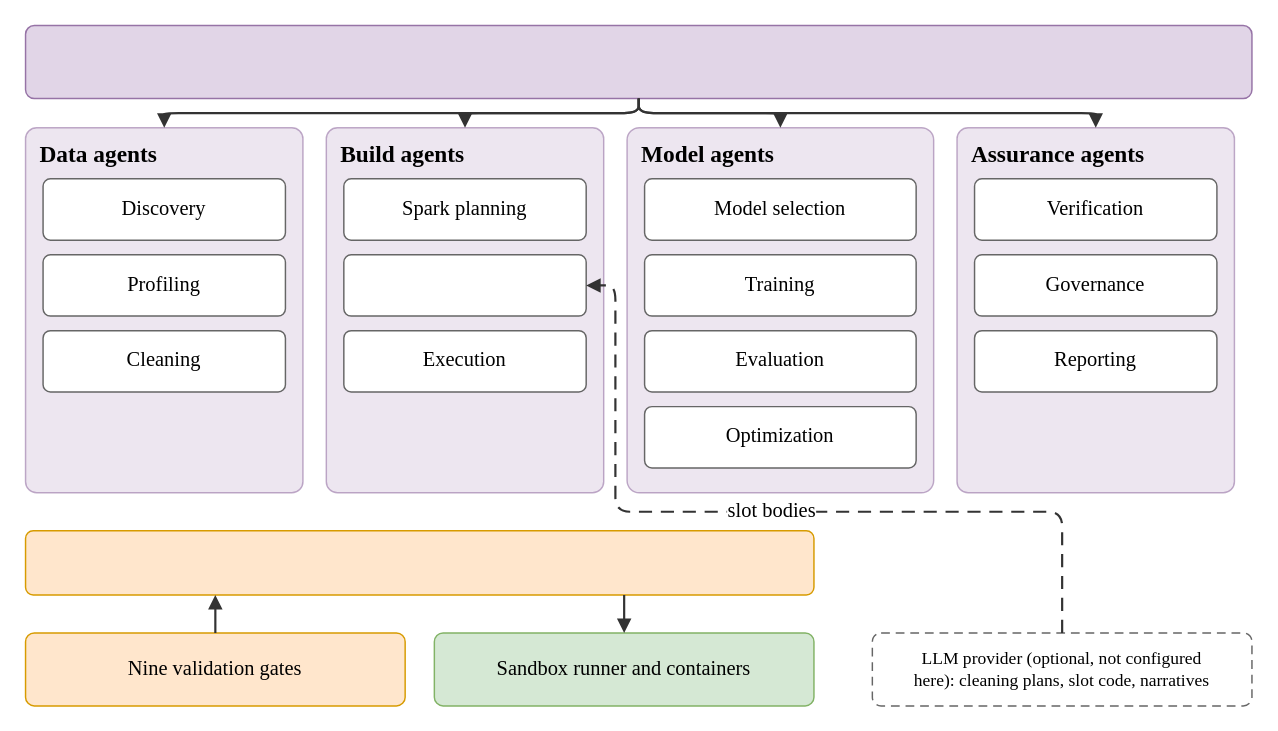
The diagram is 1278 pixels wide and 731 high, and some of its shapes have lost their labels. The shapes that lost their labels are listed below. From the top down, each one's centre as x and y in pixels, then its label:
At (x=638, y=61): "Orchestrator (deterministic): decides what happens next, never content".
At (x=464, y=284): "Code generation".
At (x=419, y=562): "Tool registry: permitted agents, argument schema, policy action, audit entry".
